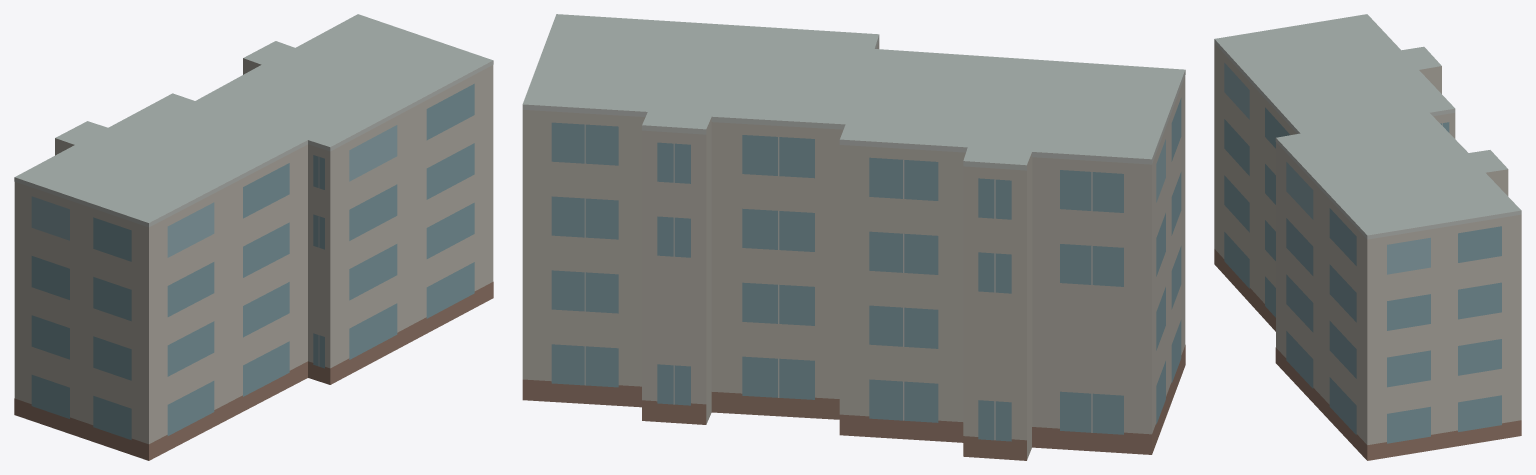
The model's file is survey-upis-32622169.glb.
3 renders of one model, left to right at view 1: azimuth 30°, elevation 25°; view 2: azimuth 150°, elevation 25°; view 3: azimuth 270°, elevation 25°, orthographic. The views are drawn at different scales.
Visible parts, largest first — view 1: survey-upis-32622169.tmp; view 2: survey-upis-32622169.tmp; view 3: survey-upis-32622169.tmp.
Part boxes in pixels (left/top/right/bottom): survey-upis-32622169.tmp: left=14, top=14, right=493, bottom=460; survey-upis-32622169.tmp: left=522, top=14, right=1185, bottom=460; survey-upis-32622169.tmp: left=1214, top=14, right=1521, bottom=460.
Bounding box in the file's own units: 28.46 × 13.5 × 16.68.
